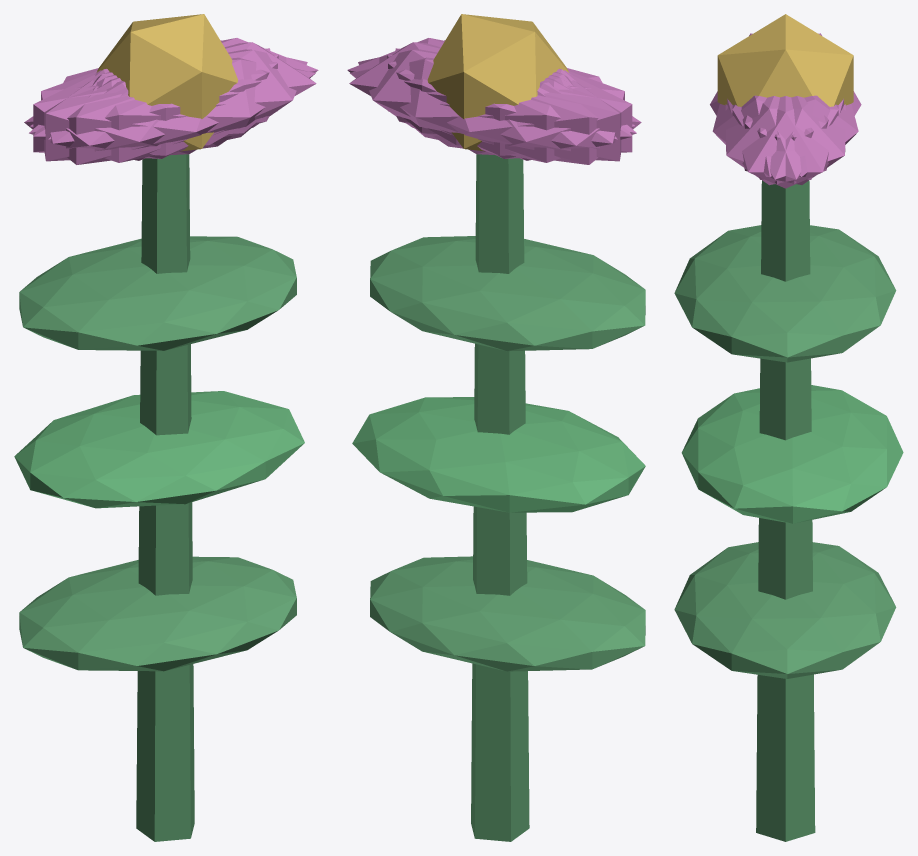
File: distimake-dissectus.glb
The picture shows the model from 3 angles, left to right: view 1: azimuth 30°, elevation 25°; view 2: azimuth 150°, elevation 25°; view 3: azimuth 270°, elevation 25°; orthographic projection.
Visible parts, largest first — view 1: stem, leaf2, leaf1, leaf0, center, petal1, petal6, petal2, petal5, petal7, petal0, petal4 (+2 smaller); view 2: stem, leaf1, leaf2, leaf0, center, petal8, petal3, petal7, petal4, petal2, petal0, petal5 (+2 smaller); view 3: stem, leaf2, leaf1, leaf0, center, petal0, petal4, petal5, petal8, petal1.
Part boxes in pixels (bbox=[...]): stem: bbox=[136, 154, 194, 841]; leaf2: bbox=[19, 236, 296, 350]; leaf1: bbox=[14, 391, 304, 508]; leaf0: bbox=[19, 556, 296, 671]; center: bbox=[96, 14, 237, 151]; petal1: bbox=[29, 57, 315, 162]; petal6: bbox=[24, 70, 231, 164]; petal2: bbox=[44, 48, 270, 161]; petal5: bbox=[48, 49, 307, 155]; petal7: bbox=[33, 54, 278, 158]; petal0: bbox=[96, 42, 316, 145]; petal4: bbox=[30, 38, 318, 136]; stem: bbox=[471, 154, 529, 841]; leaf1: bbox=[352, 397, 645, 512]; leaf2: bbox=[370, 236, 645, 351]; leaf0: bbox=[370, 556, 645, 671]; center: bbox=[427, 14, 568, 151]; petal8: bbox=[350, 57, 636, 162]; petal3: bbox=[433, 70, 641, 164]; petal7: bbox=[395, 48, 621, 161]; petal4: bbox=[358, 49, 617, 155]; petal2: bbox=[387, 54, 632, 158]; petal0: bbox=[349, 42, 569, 145]; petal5: bbox=[347, 38, 635, 136]; stem: bbox=[756, 180, 815, 841]; leaf2: bbox=[674, 225, 896, 362]; leaf1: bbox=[681, 385, 903, 523]; leaf0: bbox=[674, 542, 896, 678]; center: bbox=[717, 14, 853, 106]; petal0: bbox=[727, 96, 843, 188]; petal4: bbox=[732, 96, 845, 184]; petal5: bbox=[725, 96, 838, 185]; petal8: bbox=[742, 95, 858, 177]; petal1: bbox=[712, 95, 828, 177].
Bounding box in the file's own units: 0.1498 × 0.3963 × 0.1033.
